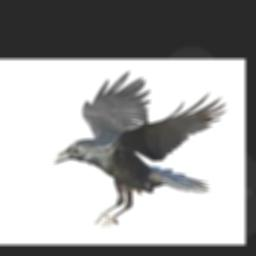Crow: (53, 71, 227, 227)
